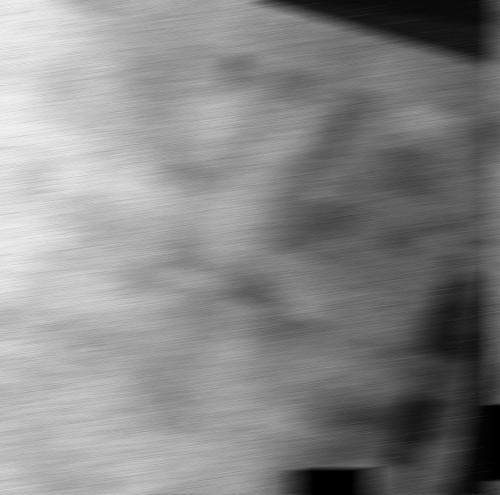Airbag: (0, 0, 500, 495), (491, 0, 500, 495)
